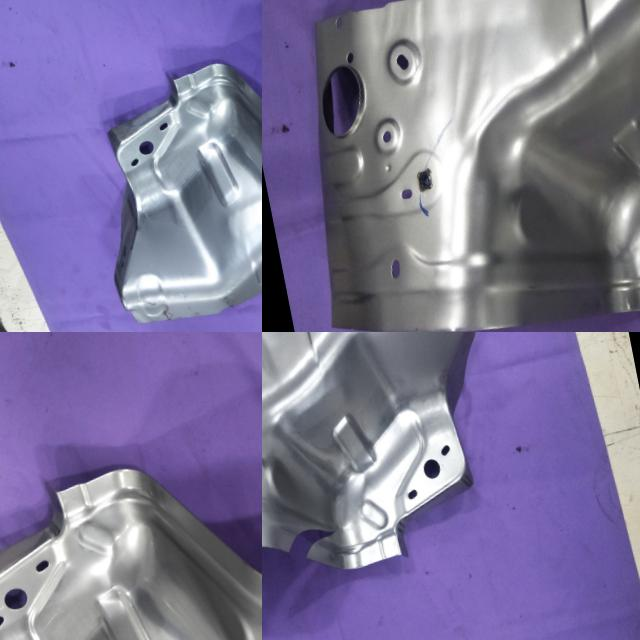Defect: (269, 520, 344, 570)
Healthy: (267, 0, 640, 332), (0, 399, 262, 640)
rust: (146, 288, 201, 332)
